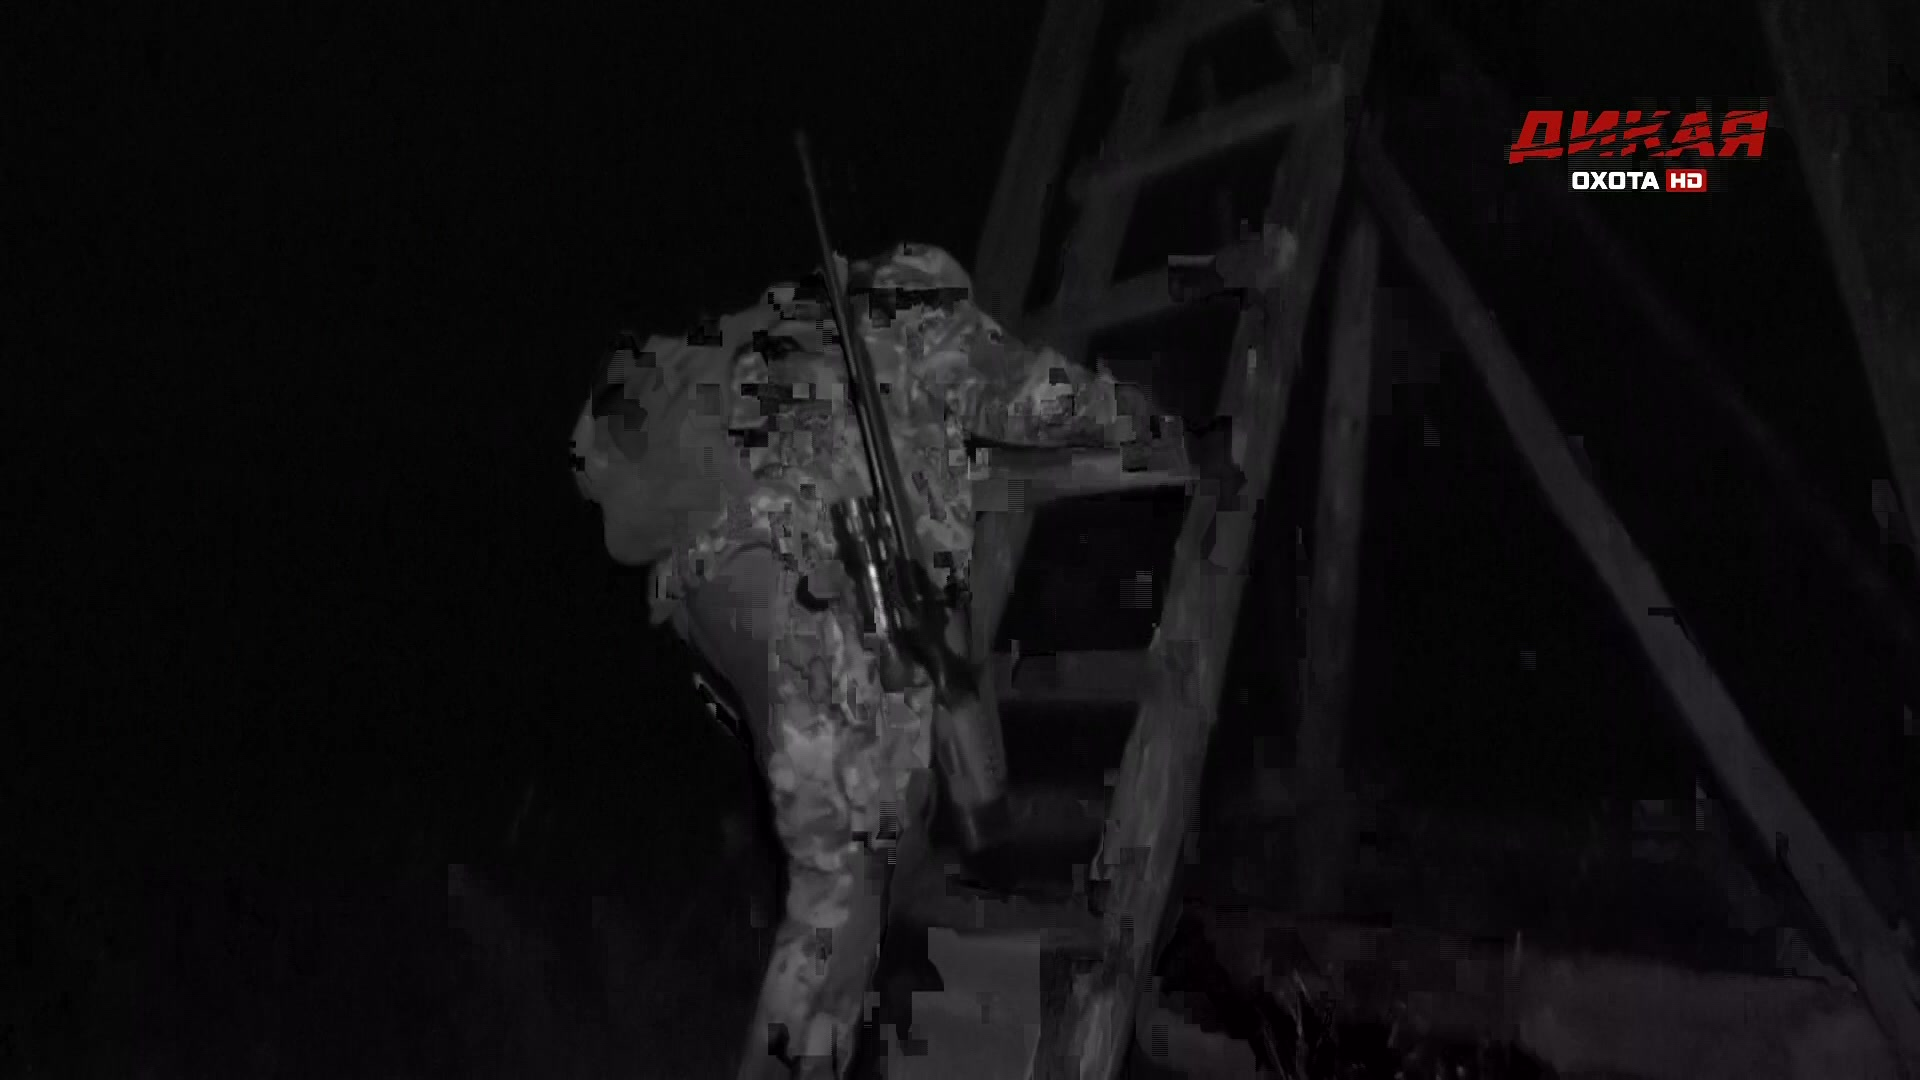Dikaya_Ohota_HD: (1498, 104, 1774, 196)
